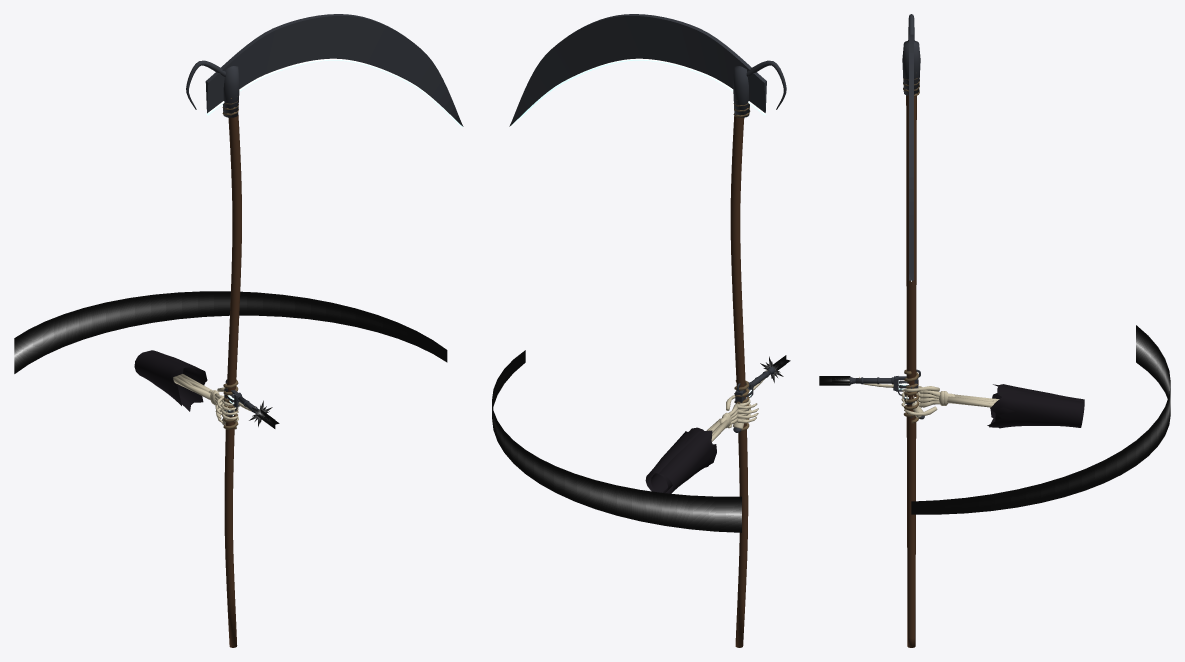
Rendered from viewmodel.glb.
3 renders of one model, left to right at view 1: azimuth 30°, elevation 25°; view 2: azimuth 150°, elevation 25°; view 3: azimuth 270°, elevation 25°, orthographic. The views are drawn at different scales.
Parts seen in each view (by area): view 1: scythe, vm_trail, arm_l, arm_r_forearm; view 2: scythe, vm_trail, arm_l, arm_r_forearm, pistol; view 3: scythe, vm_trail, arm_r_forearm, arm_l, pistol.
Part boxes in pixels (x1,y1,x2,y2): scythe: [186, 14, 463, 647]; vm_trail: [14, 291, 447, 373]; arm_l: [134, 351, 224, 422]; arm_r_forearm: [147, 350, 212, 411]; scythe: [509, 14, 786, 647]; vm_trail: [492, 350, 741, 532]; arm_l: [651, 395, 758, 493]; arm_r_forearm: [645, 418, 729, 493]; pistol: [732, 366, 774, 432]; scythe: [902, 14, 920, 647]; vm_trail: [911, 325, 1170, 514]; arm_r_forearm: [947, 384, 1084, 427]; arm_l: [901, 384, 1084, 428]; pistol: [849, 369, 924, 419].
Size of the model in its own units: 1.57 by 2.69 by 1.36.
Materials: 2 (2 with a texture image).
